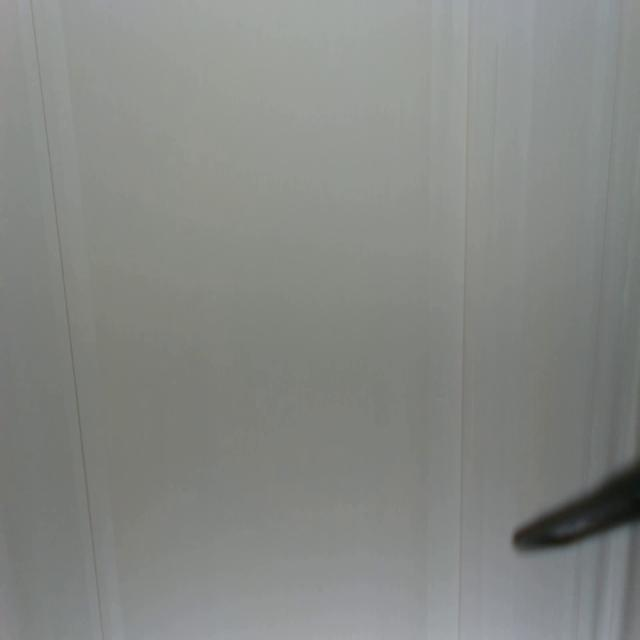crease: (29, 0, 105, 640), (584, 13, 626, 464), (457, 0, 475, 640)
